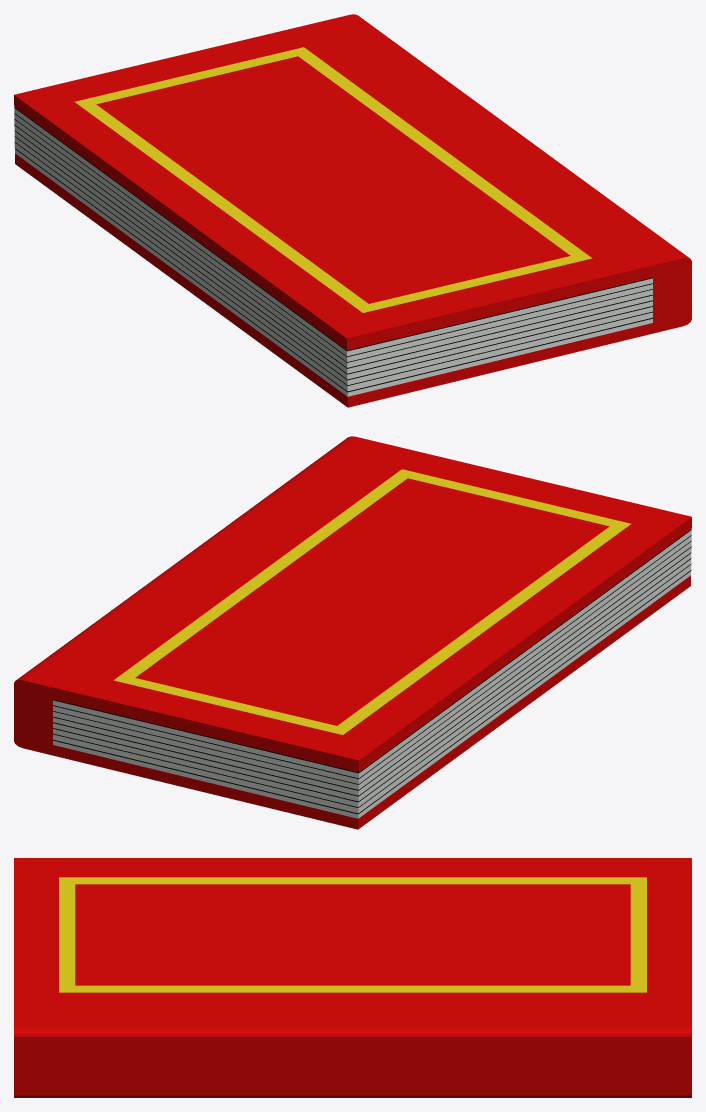
The model's file is RedBook.fbx.
3 views of the same model, one above another, from view 1: azimuth 30°, elevation 25°; view 2: azimuth 150°, elevation 25°; view 3: azimuth 270°, elevation 25° (orthographic).
Visible parts, largest first — view 1: Red; view 2: Red; view 3: Red.
Boxes of the visible parts, <box> form: Red: <box>14,14,691,407</box>; Red: <box>14,436,691,829</box>; Red: <box>14,858,691,1097</box>.
Size of the model in its own units: 120 by 23.18 by 200.
